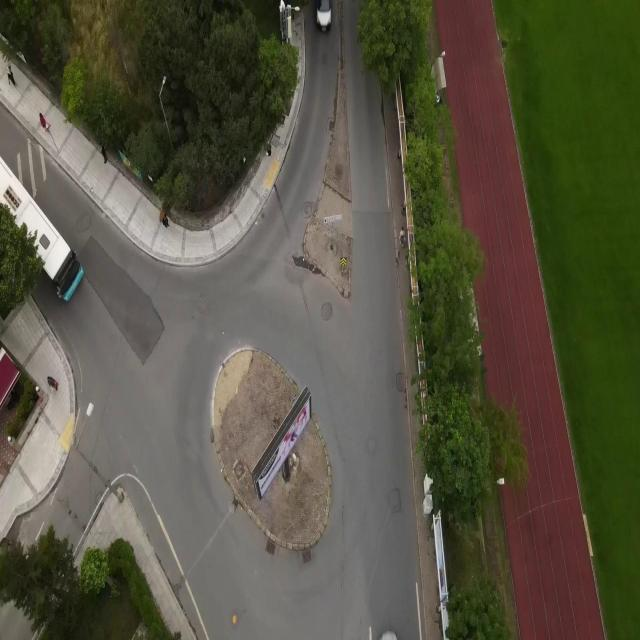p3rson: (99, 142, 107, 164), (6, 66, 15, 85), (47, 377, 58, 391), (39, 112, 46, 128), (162, 213, 169, 228), (266, 141, 272, 158), (400, 227, 405, 246), (436, 92, 442, 104)
